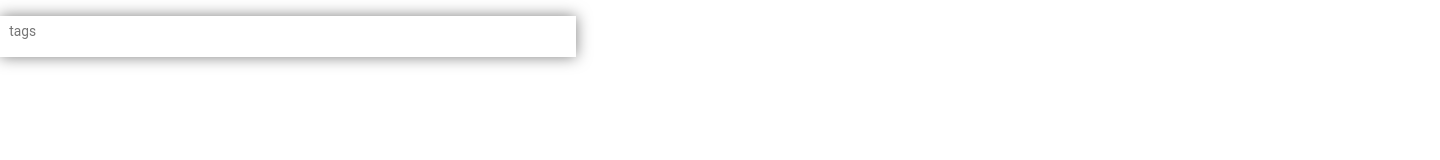
Combobox › passes the typed text through sanitizeInput
Type "sci-fi" into the field with placeholder "tags" at x=292, y=31, box [7,16,576,46]
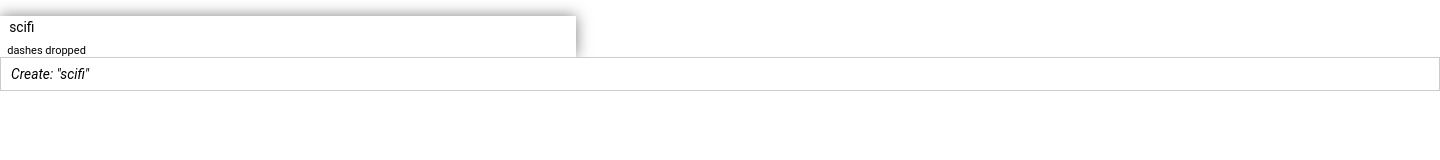
Check: the field with placeholder "tags" holds "scifi", box [7,16,576,39]
